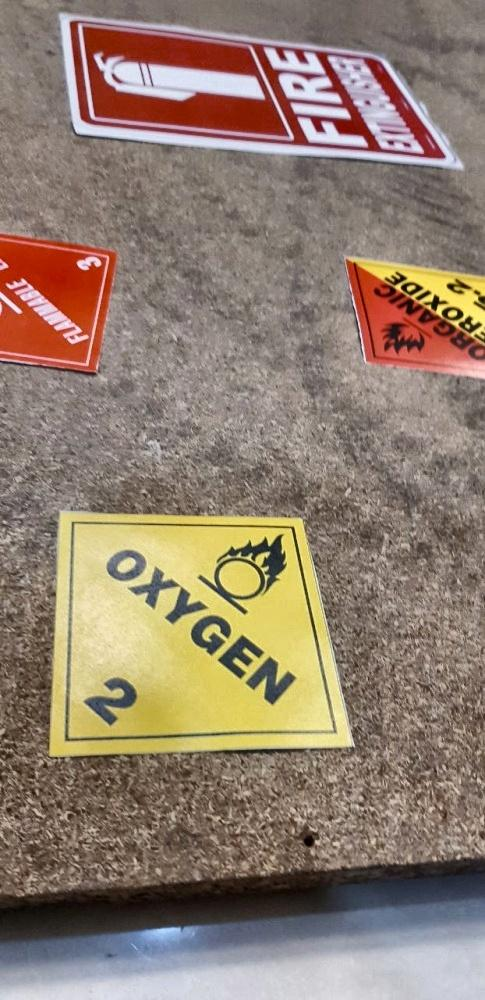flammable: (1, 233, 120, 377)
oxidizer: (44, 506, 358, 752)
spontaneously-combustible: (350, 255, 485, 384)
